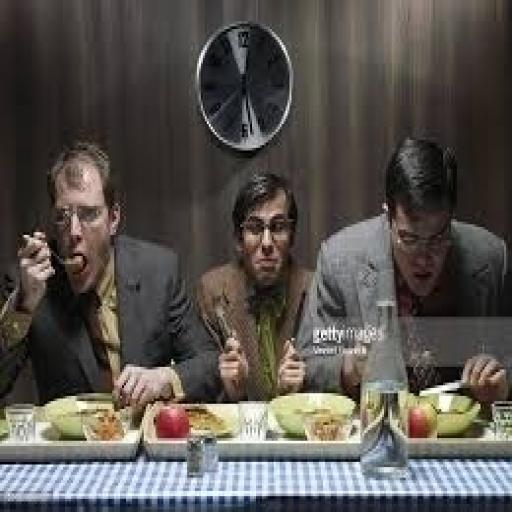eating: (0, 124, 508, 409)
